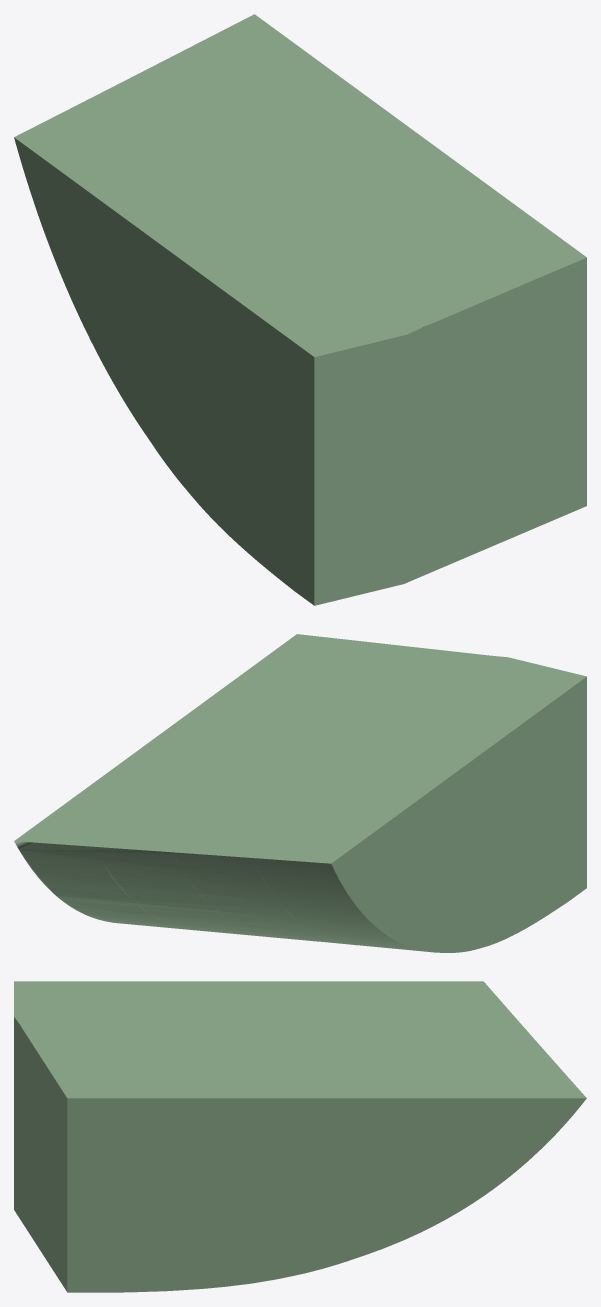
Rendered from DIESEL_OIL_OVERFLOW_TK_PS.glb.
3 views of the same model, one above another, from view 1: azimuth 30°, elevation 25°; view 2: azimuth 150°, elevation 25°; view 3: azimuth 270°, elevation 25° (orthographic). The views are drawn at different scales.
Parts seen in each view (by area): view 1: PL_TransxFR41P_004002-15_NVA_1993, PL_GirderBxEPRP_001001-29.5_NVA_1993, PL_DoubleBottomxEPRP_005001-20.5_NVA_1993, PL_DoubleBottomxEPRP_014001-20.5_NVA_1993, PL_GirderBxEPRP_004001-38.5_NVA_1993, PL_DoubleBottomxEPRP_005004-20.5_NVA_1993, PL_DoubleBottomxEPRP_006002-20.5_NVA_1993, PL_DoubleBottomxEPRP_014002-20.5_NVA_1993, PL_GirderBxEPRP_001002-29.5_NVA_1993, PL_DoubleBottomxEPRP_006001-20.5_NVA_1993, PL_DoubleBottomxEPRP_005002-20.5_NVA_1993; view 2: PL_TransxFR41P_004002-15_NVA_1993, PL_DoubleBottomxEPRP_005001-20.5_NVA_1993, PL_DoubleBottomxEPRP_014001-20.5_NVA_1993, PL_OuterShellxEPRP_046001-18_NVA_1993, PL_DoubleBottomxEPRP_005004-20.5_NVA_1993, PL_OuterShellxEPRP_046003-18_NVA_1993, PL_DoubleBottomxEPRP_006002-20.5_NVA_1993, PL_DoubleBottomxEPRP_014002-20.5_NVA_1993, PL_DoubleBottomxEPRP_006001-20.5_NVA_1993, PL_DoubleBottomxEPRP_005002-20.5_NVA_1993, PL_DoubleBottomxEPRP_004001-20.5_NVA_1993; view 3: PL_TransxFR45P_001001-17.5_NVA_1993, PL_TransxFR45P_001002-17.5_NVA_1993, PL_DoubleBottomxEPRP_005001-20.5_NVA_1993, PL_DoubleBottomxEPRP_014001-20.5_NVA_1993, PL_DoubleBottomxEPRP_005004-20.5_NVA_1993, PL_GirderBxEPRP_001001-29.5_NVA_1993, PL_DoubleBottomxEPRP_006002-20.5_NVA_1993, PL_DoubleBottomxEPRP_014002-20.5_NVA_1993, PL_DoubleBottomxEPRP_006001-20.5_NVA_1993, PL_DoubleBottomxEPRP_005002-20.5_NVA_1993, PL_GirderBxEPRP_001002-29.5_NVA_1993.
Boxes of the visible parts, bbox=[...] form: PL_TransxFR41P_004002-15_NVA_1993: bbox=[14, 137, 314, 605]; PL_GirderBxEPRP_001001-29.5_NVA_1993: bbox=[422, 257, 586, 576]; PL_DoubleBottomxEPRP_005001-20.5_NVA_1993: bbox=[239, 146, 586, 327]; PL_DoubleBottomxEPRP_014001-20.5_NVA_1993: bbox=[139, 14, 423, 186]; PL_GirderBxEPRP_004001-38.5_NVA_1993: bbox=[314, 335, 403, 605]; PL_DoubleBottomxEPRP_005004-20.5_NVA_1993: bbox=[118, 186, 414, 356]; PL_DoubleBottomxEPRP_006002-20.5_NVA_1993: bbox=[14, 93, 171, 171]; PL_DoubleBottomxEPRP_014002-20.5_NVA_1993: bbox=[62, 145, 228, 213]; PL_GirderBxEPRP_001002-29.5_NVA_1993: bbox=[404, 328, 421, 583]; PL_DoubleBottomxEPRP_006001-20.5_NVA_1993: bbox=[101, 73, 220, 144]; PL_DoubleBottomxEPRP_005002-20.5_NVA_1993: bbox=[229, 138, 433, 193]; PL_TransxFR41P_004002-15_NVA_1993: bbox=[331, 677, 586, 952]; PL_DoubleBottomxEPRP_005001-20.5_NVA_1993: bbox=[168, 634, 489, 769]; PL_DoubleBottomxEPRP_014001-20.5_NVA_1993: bbox=[14, 735, 324, 851]; PL_OuterShellxEPRP_046001-18_NVA_1993: bbox=[14, 841, 310, 940]; PL_DoubleBottomxEPRP_005004-20.5_NVA_1993: bbox=[326, 660, 586, 798]; PL_OuterShellxEPRP_046003-18_NVA_1993: bbox=[217, 855, 424, 951]; PL_DoubleBottomxEPRP_006002-20.5_NVA_1993: bbox=[217, 811, 371, 863]; PL_DoubleBottomxEPRP_014002-20.5_NVA_1993: bbox=[278, 776, 419, 833]; PL_DoubleBottomxEPRP_006001-20.5_NVA_1993: bbox=[166, 801, 276, 855]; PL_DoubleBottomxEPRP_005002-20.5_NVA_1993: bbox=[159, 729, 333, 775]; PL_DoubleBottomxEPRP_004001-20.5_NVA_1993: bbox=[505, 658, 579, 679]; PL_TransxFR45P_001001-17.5_NVA_1993: bbox=[67, 1098, 305, 1292]; PL_TransxFR45P_001002-17.5_NVA_1993: bbox=[305, 1098, 586, 1272]; PL_DoubleBottomxEPRP_005001-20.5_NVA_1993: bbox=[20, 1023, 305, 1098]; PL_DoubleBottomxEPRP_014001-20.5_NVA_1993: bbox=[321, 1023, 586, 1098]; PL_DoubleBottomxEPRP_005004-20.5_NVA_1993: bbox=[14, 981, 320, 1023]; PL_GirderBxEPRP_001001-29.5_NVA_1993: bbox=[19, 1024, 67, 1291]; PL_DoubleBottomxEPRP_006002-20.5_NVA_1993: bbox=[409, 981, 520, 1023]; PL_DoubleBottomxEPRP_014002-20.5_NVA_1993: bbox=[321, 981, 409, 1023]; PL_DoubleBottomxEPRP_006001-20.5_NVA_1993: bbox=[409, 1023, 536, 1042]; PL_DoubleBottomxEPRP_005002-20.5_NVA_1993: bbox=[305, 1023, 320, 1098]; PL_GirderBxEPRP_001002-29.5_NVA_1993: bbox=[14, 1017, 19, 1217].
Bounding box in the file's own units: 3.6 × 2.79 × 7.46.
